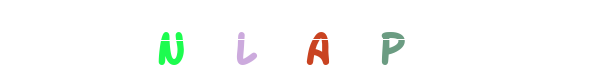A: (278, 0, 358, 80)
L: (265, 0, 345, 80)
N: (130, 0, 210, 80)
P: (325, 0, 405, 80)
